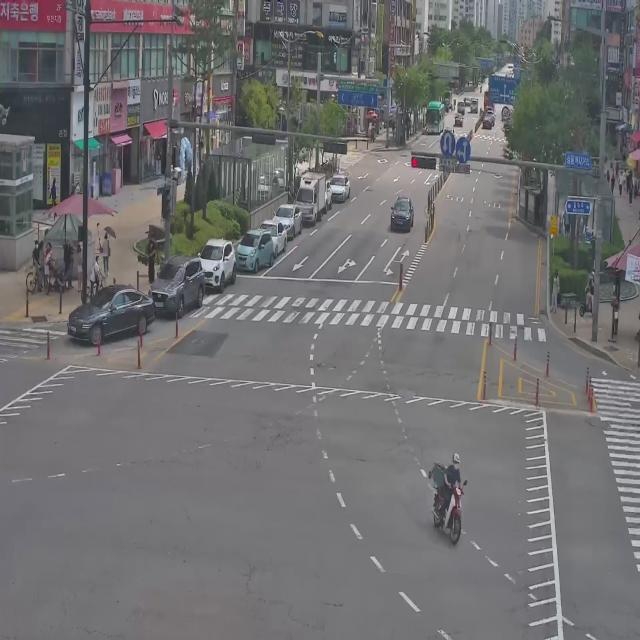Bus: (425, 92, 445, 136)
Car: (67, 282, 156, 346), (148, 253, 205, 319), (197, 237, 236, 293), (235, 228, 275, 274), (273, 198, 305, 240), (257, 218, 287, 260), (390, 196, 414, 232), (329, 174, 350, 203), (320, 178, 333, 213), (480, 114, 491, 129), (454, 113, 463, 128)
Motorcycle: (426, 452, 468, 546)
Truck: (295, 170, 326, 226), (471, 98, 479, 116), (458, 100, 465, 114)
